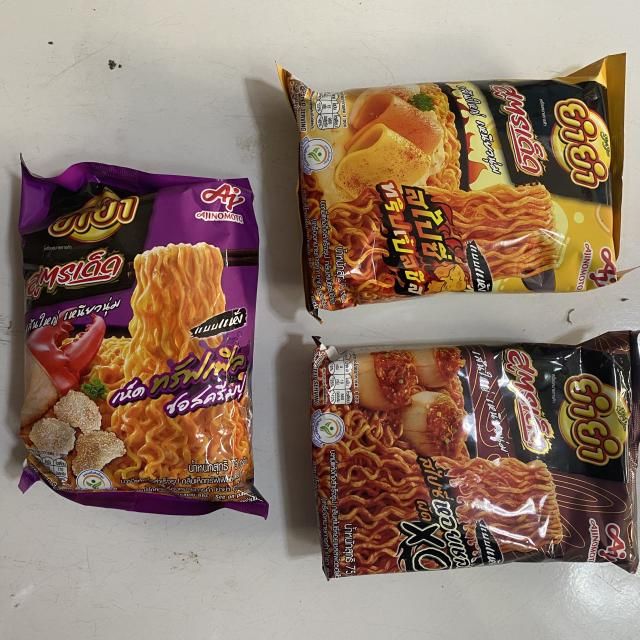plastik: (278, 54, 625, 316), (19, 163, 268, 516), (310, 331, 640, 578)
